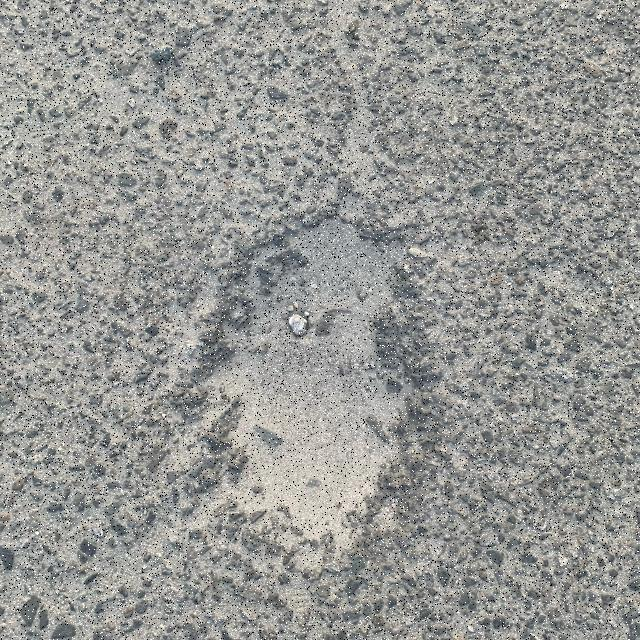damaged: (169, 176, 463, 572)
